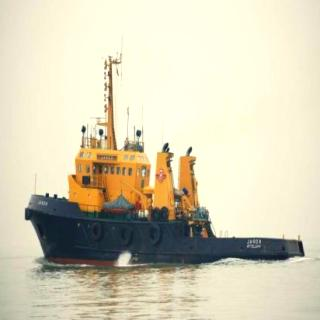Tug Boat: (25, 125, 313, 266)
